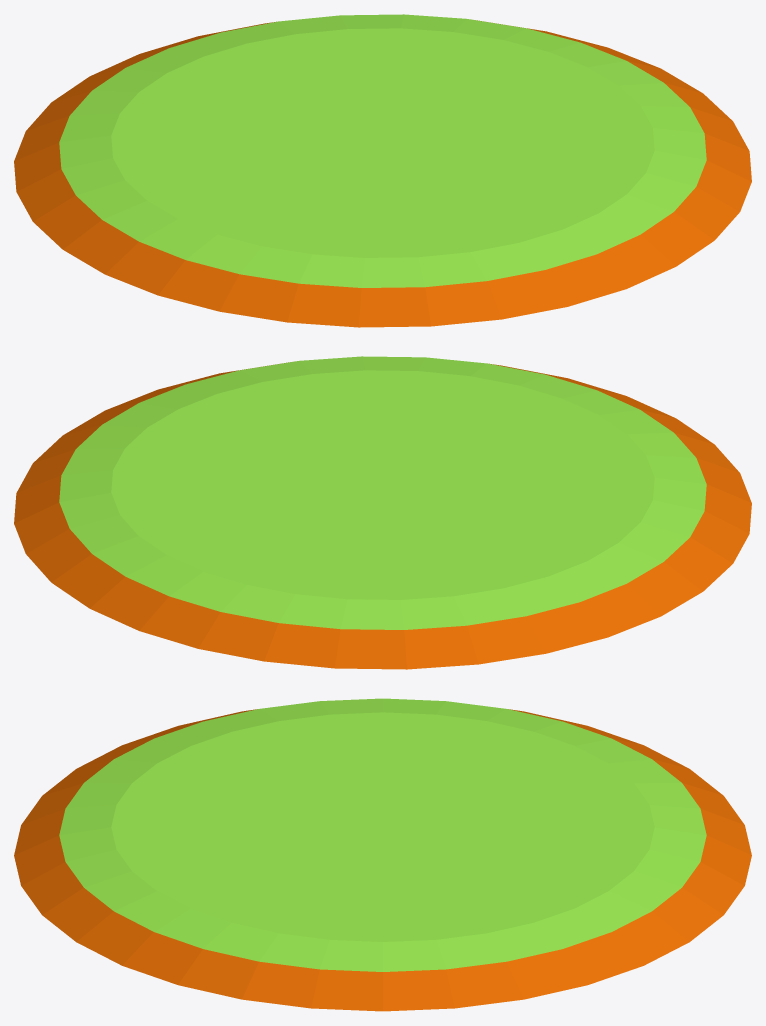
Rendered from garden.glb.
The picture shows the model from 3 angles, top to bottom: view 1: azimuth 30°, elevation 25°; view 2: azimuth 150°, elevation 25°; view 3: azimuth 270°, elevation 25°; orthographic projection.
Visible parts, largest first — view 1: Circle; view 2: Circle; view 3: Circle.
Part boxes in pixels (x1,y1,x2,y2): Circle: (14,14,751,327); Circle: (14,356,751,669); Circle: (14,698,751,1011).
Bounding box in the file's own units: 18.02 × 0.7632 × 18.02.
